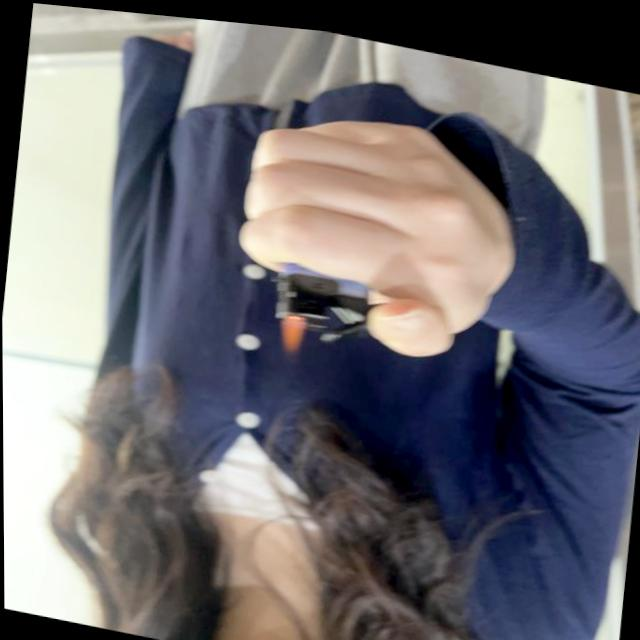helmet: (267, 305, 312, 351)
